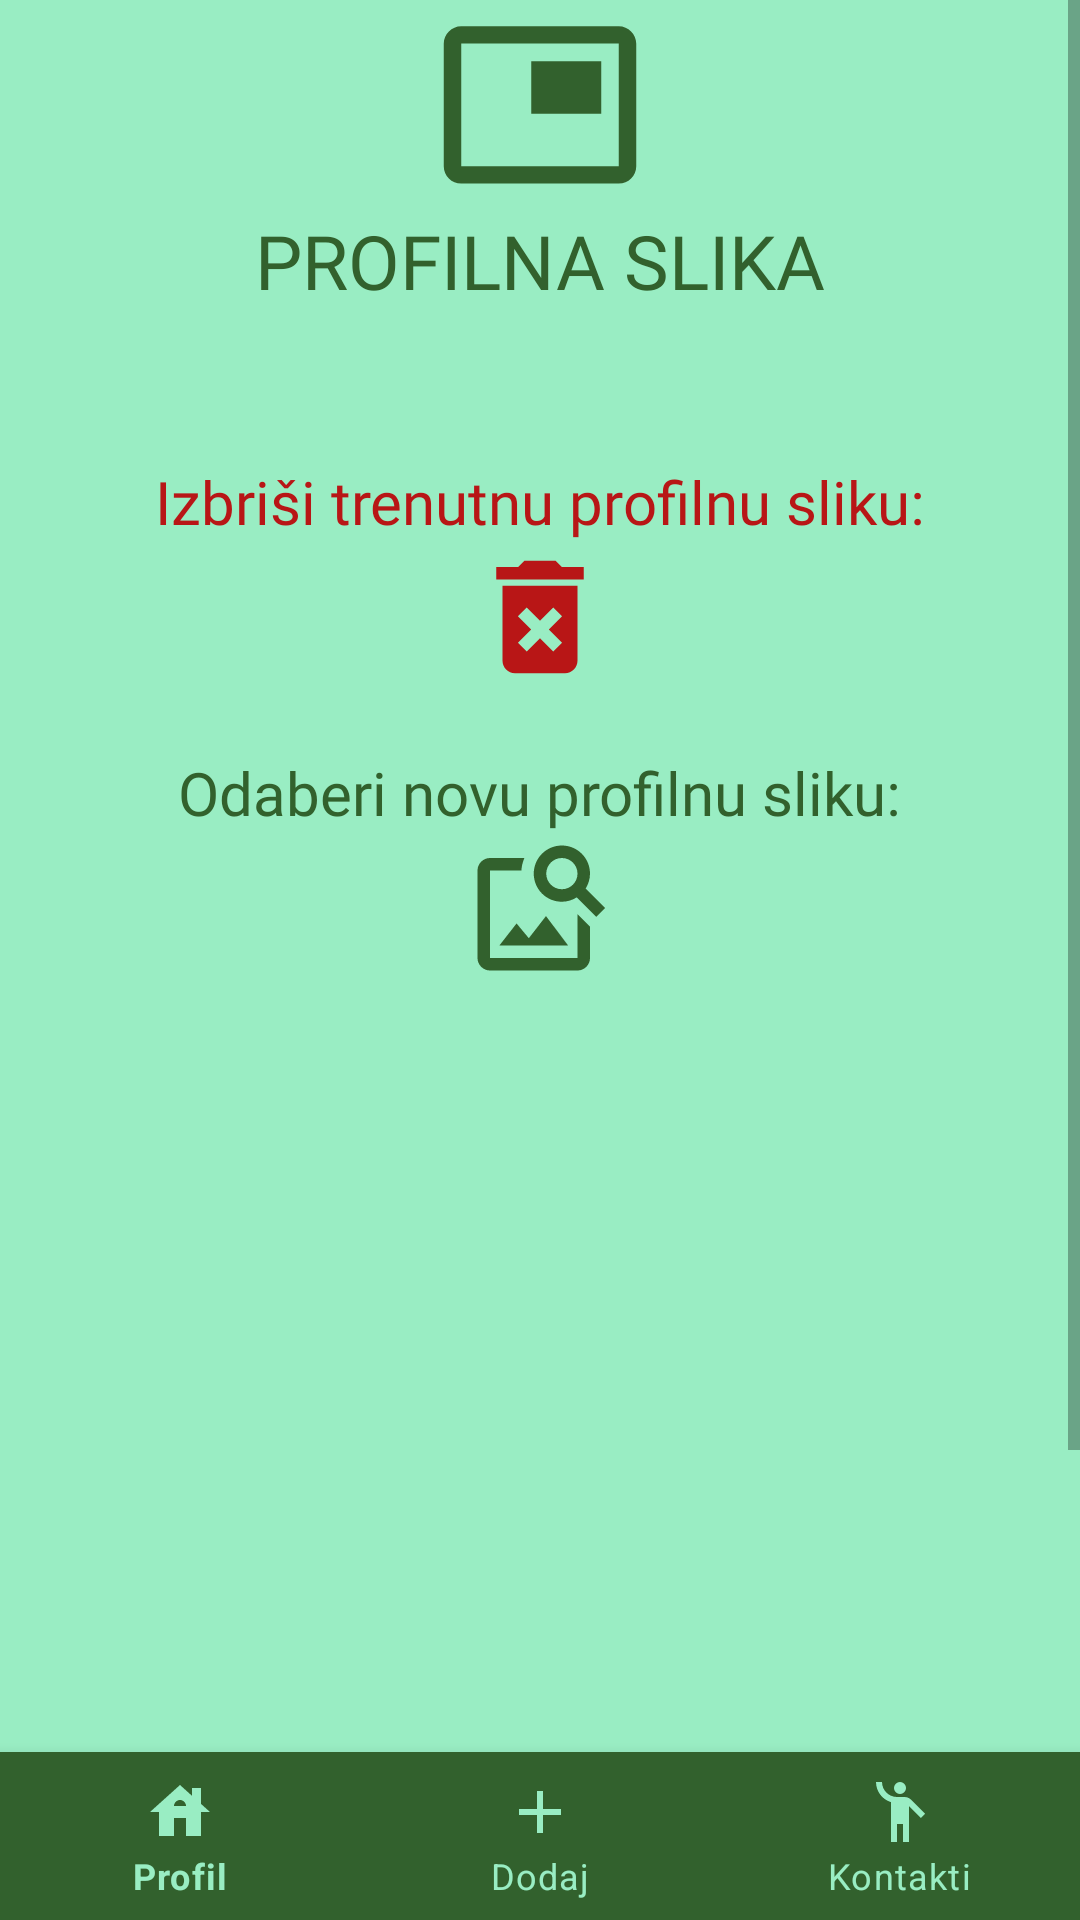

Named icons in this screenshot (1080*1920) and their bounding boxes, (x1, y1, x2, y2):
delete: (496, 560, 584, 674)
search picture: (477, 845, 605, 971)
